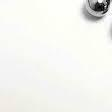ironball: (82, 0, 111, 19)
